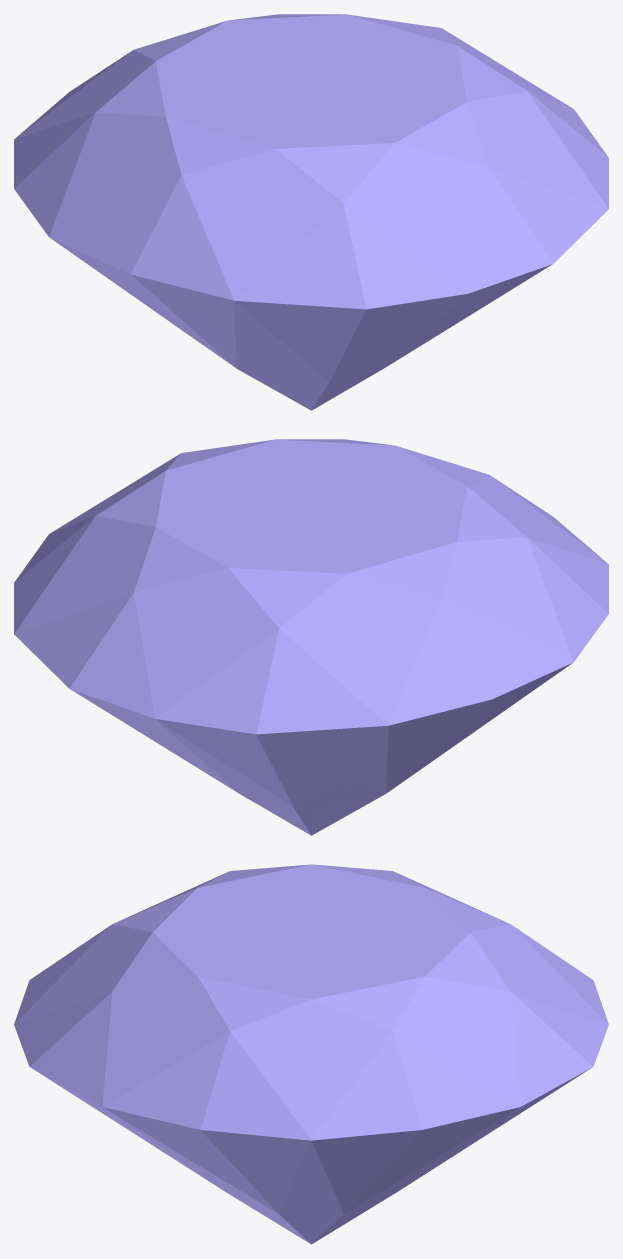
File: Tanzanite.fbx
The picture shows the model from 3 angles, top to bottom: view 1: azimuth 30°, elevation 25°; view 2: azimuth 150°, elevation 25°; view 3: azimuth 270°, elevation 25°; orthographic projection. The views are drawn at different scales.
Parts seen in each view (by area): view 1: Plane; view 2: Plane; view 3: Plane.
Part boxes in pixels (x1=…): Plane: x1=14, y1=14, x2=608, y2=410; Plane: x1=14, y1=439, x2=608, y2=835; Plane: x1=14, y1=864, x2=608, y2=1244.
Bounding box in the file's own units: 516 × 309 × 534.
